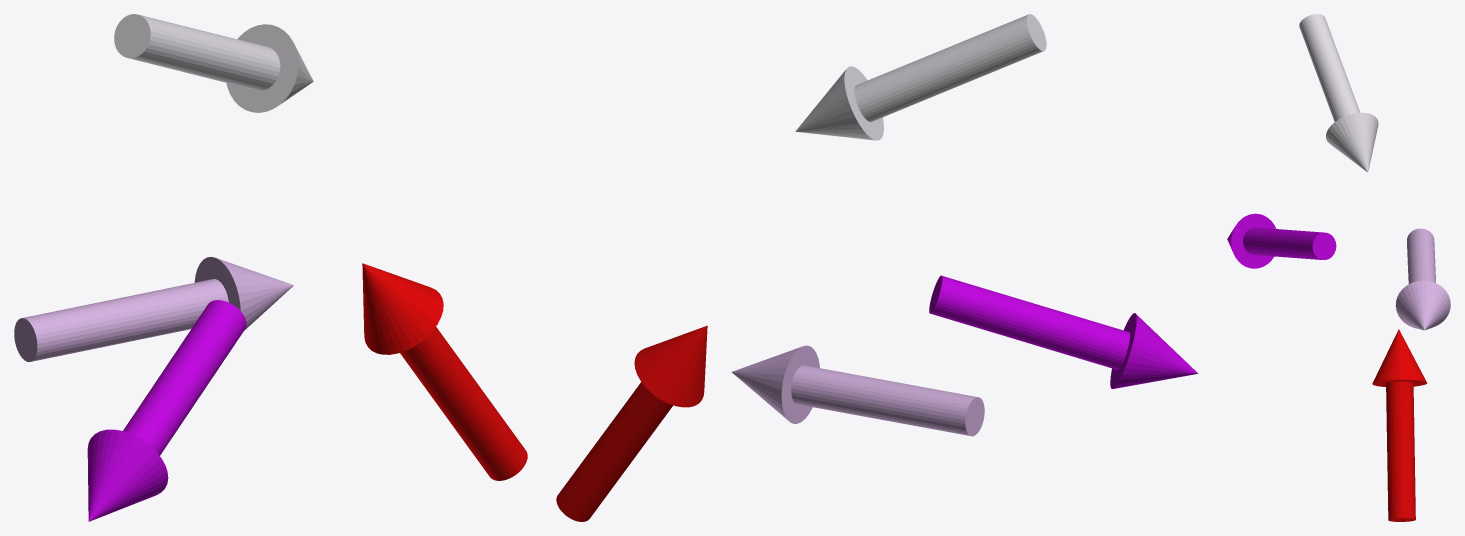
File: opt_res.glb
3 views of the same model, side by side, from view 1: azimuth 30°, elevation 25°; view 2: azimuth 150°, elevation 25°; view 3: azimuth 270°, elevation 25° (orthographic). The views are drawn at different scales.
Parts seen in each view (by area): view 1: world; view 2: world; view 3: world.
Boxes of the visible parts, left/top/right/bottom form: world: left=14, top=14, right=527, bottom=521; world: left=556, top=14, right=1198, bottom=521; world: left=1227, top=14, right=1450, bottom=521.
Size of the model in its own units: 0.0595 by 0.0609 by 0.0324.
